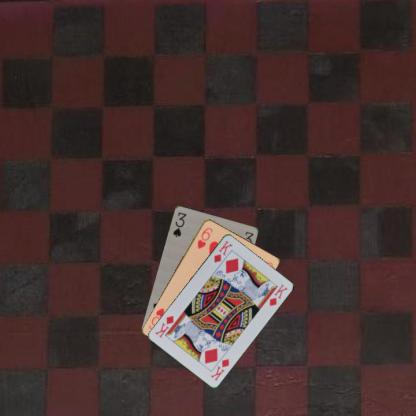3s: (170, 209, 188, 239)
6h: (194, 225, 214, 250)
Kd: (211, 238, 233, 264), (208, 356, 230, 382)
